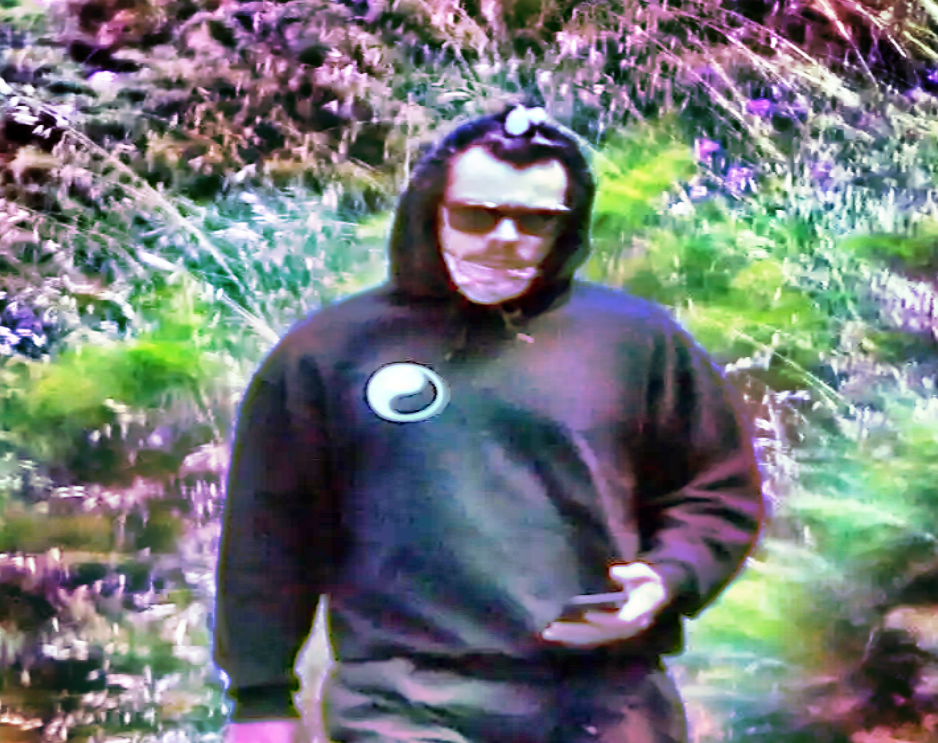mask_weared_incorrect: (412, 126, 593, 312)
